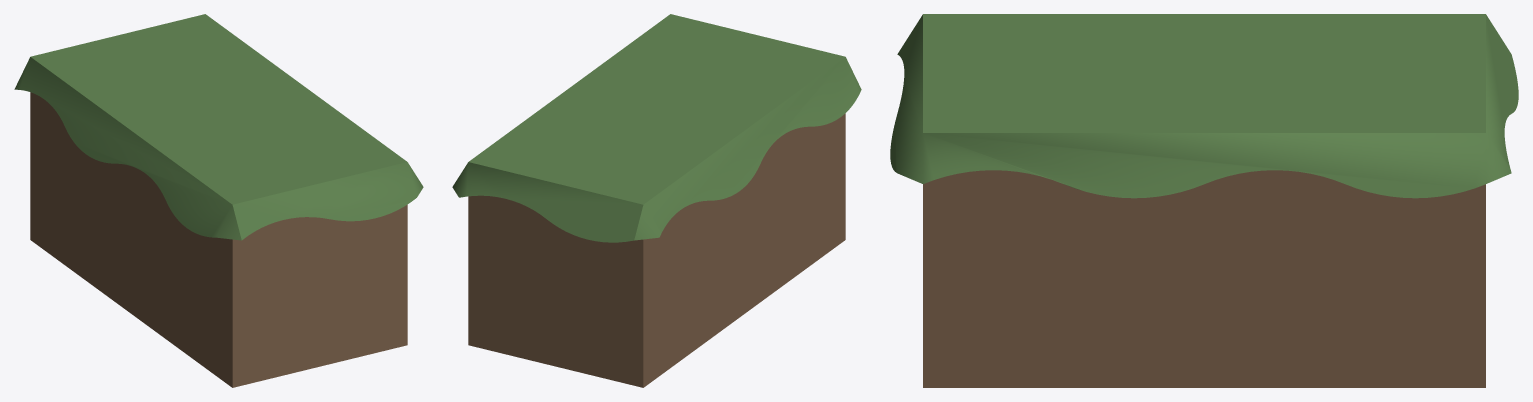
Rendered from wallgroup04_1.fbx.
The picture shows the model from 3 angles, left to right: view 1: azimuth 30°, elevation 25°; view 2: azimuth 150°, elevation 25°; view 3: azimuth 270°, elevation 25°; orthographic projection. The views are drawn at different scales.
Parts seen in each view (by area): view 1: blockSnowLong; view 2: blockSnowLong; view 3: blockSnowLong.
Part boxes in pixels (bbox=[...]): blockSnowLong: bbox=[14, 14, 423, 387]; blockSnowLong: bbox=[452, 14, 861, 387]; blockSnowLong: bbox=[890, 14, 1518, 387].
Size of the model in its own units: 1.23 by 1 by 2.23.
